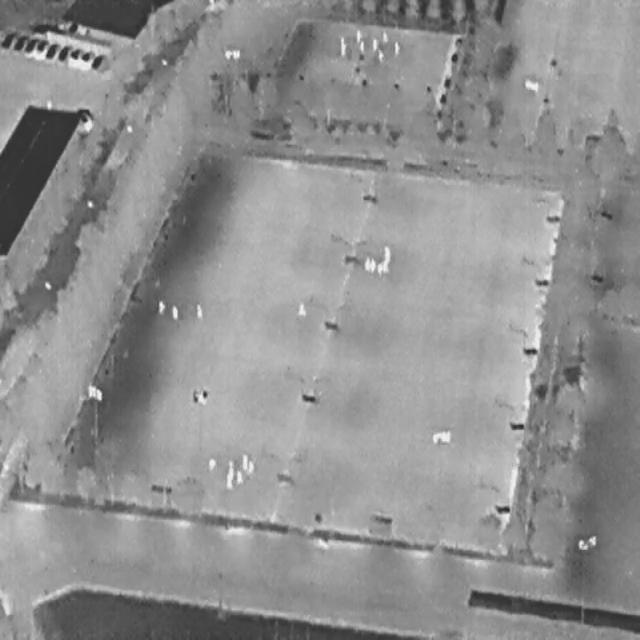Car: (21, 32, 39, 56), (55, 40, 71, 62), (11, 32, 28, 52), (42, 38, 58, 58), (89, 50, 105, 70), (0, 28, 15, 48), (80, 44, 93, 62), (68, 42, 82, 58), (35, 35, 47, 53)
Person: (195, 301, 203, 319), (235, 468, 243, 484), (296, 301, 305, 315), (381, 258, 389, 272), (207, 456, 215, 470), (247, 460, 254, 475), (157, 298, 164, 312), (369, 256, 375, 272), (376, 262, 382, 278), (225, 472, 231, 488), (241, 454, 247, 470), (384, 245, 390, 260), (363, 255, 369, 270), (371, 36, 377, 50), (381, 28, 387, 42), (393, 40, 399, 54), (340, 42, 346, 56), (171, 304, 177, 318), (227, 458, 233, 472), (377, 49, 383, 61), (355, 29, 360, 41), (359, 40, 364, 52), (339, 35, 343, 46)
